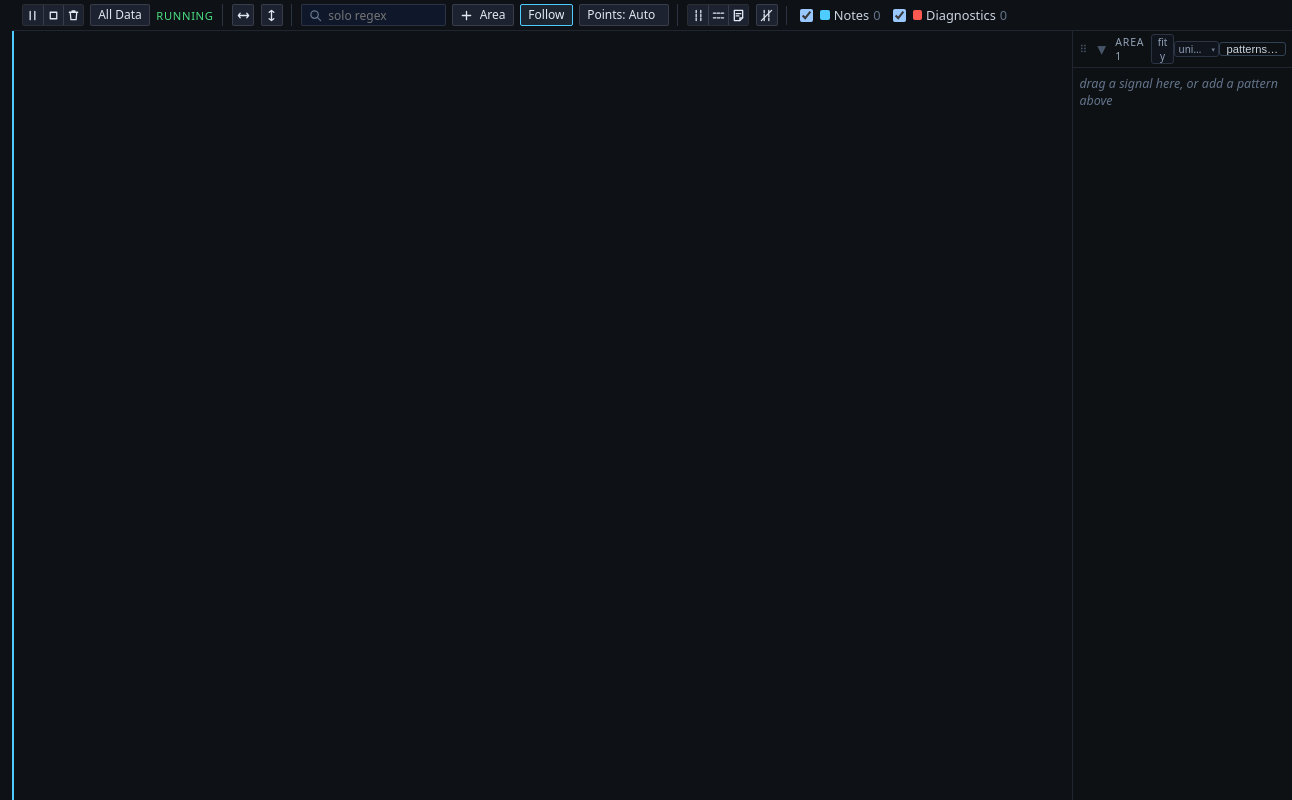
Scenario: PlotPanel › adds plot areas and exposes a remove affordance per area when >1
This screenshot has width=1292, height=800.
Click the button with aria-label "Add Plot Area".
click(483, 15)  # box [452,4,514,26]
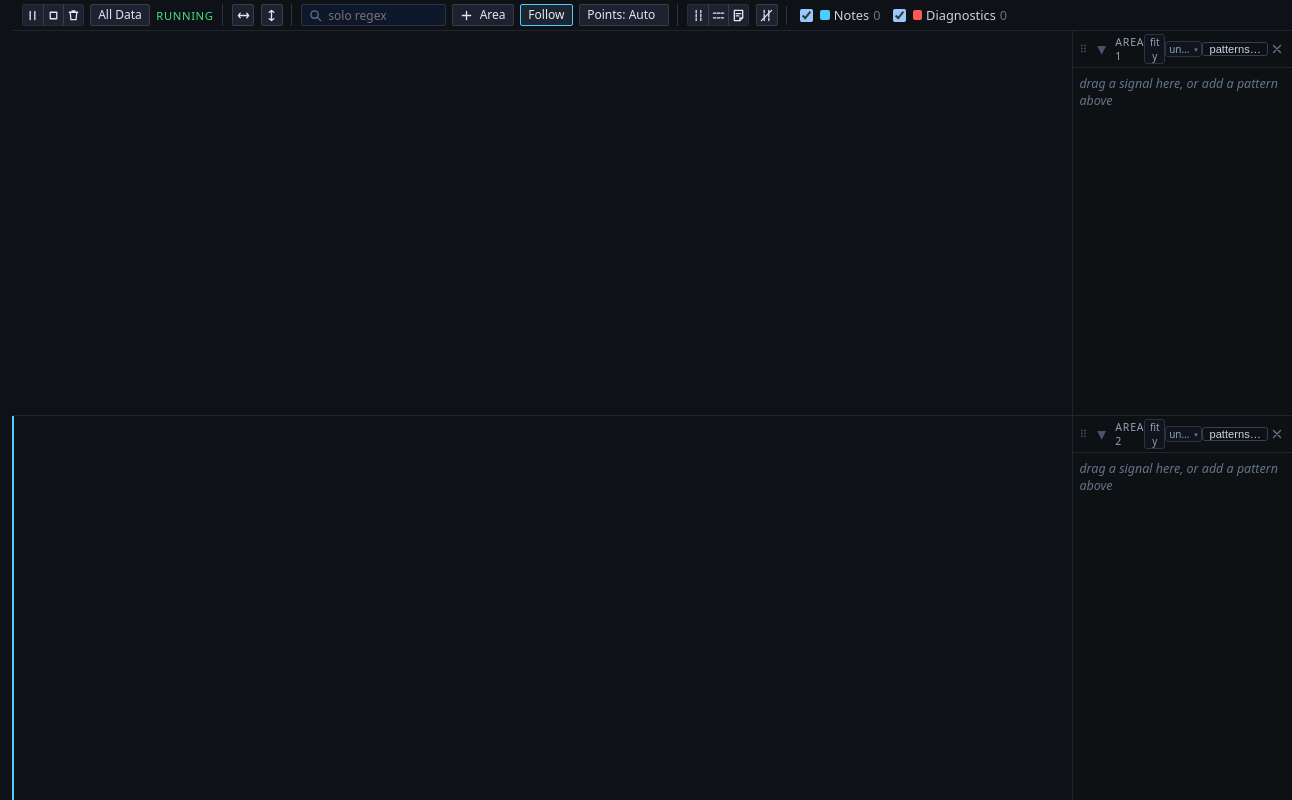
Check: the text "Area 2" is shown, box [1115,420,1144,448]
Check: the number of buttons titled "remove this plot area" is 2
Check: the button titled "remove this plot area" in the row of "Area 1" is empty, box [1268,42,1286,56]
Note: Removing one returns to a single, non-removable area.
Click the button titled "remove this plot area" in the row of "Area 2".
click(1277, 434)  # box [1268,427,1286,441]
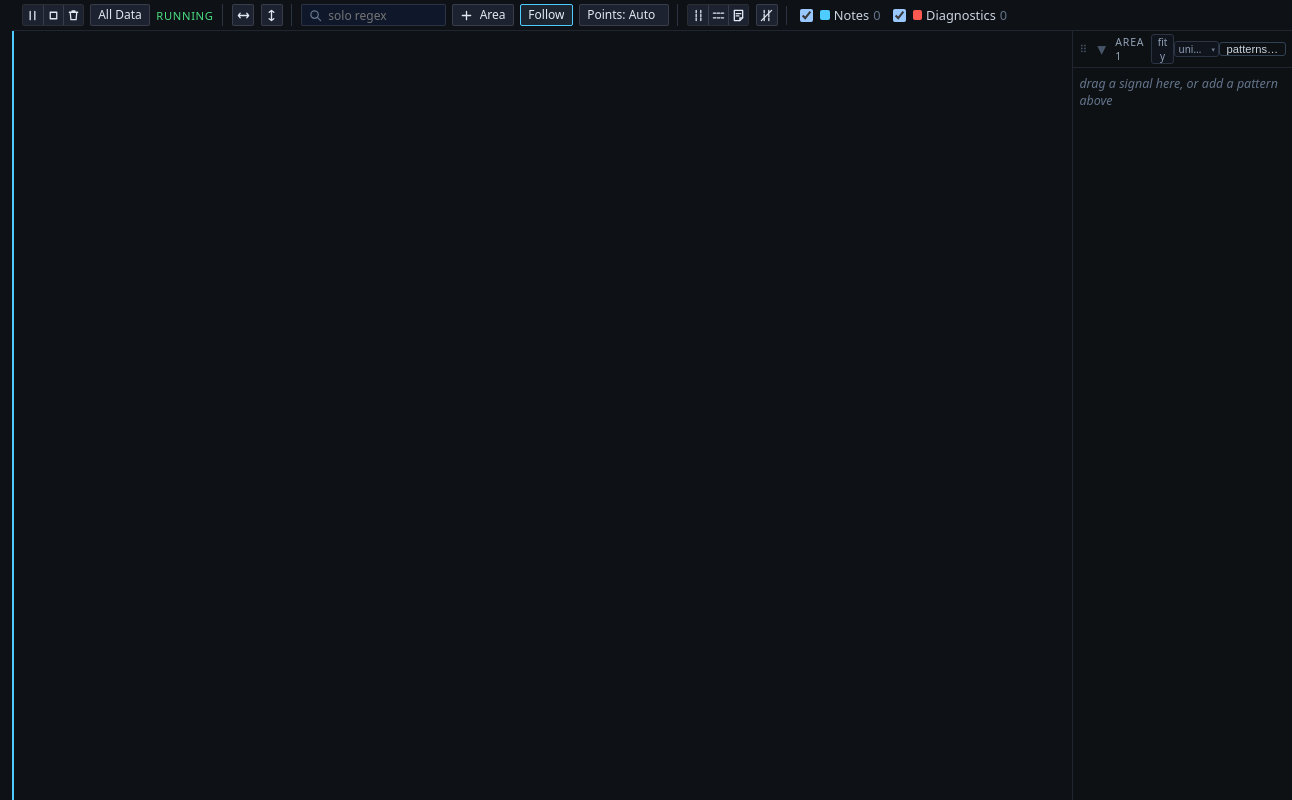
Check: the text "Area 2" is gone
